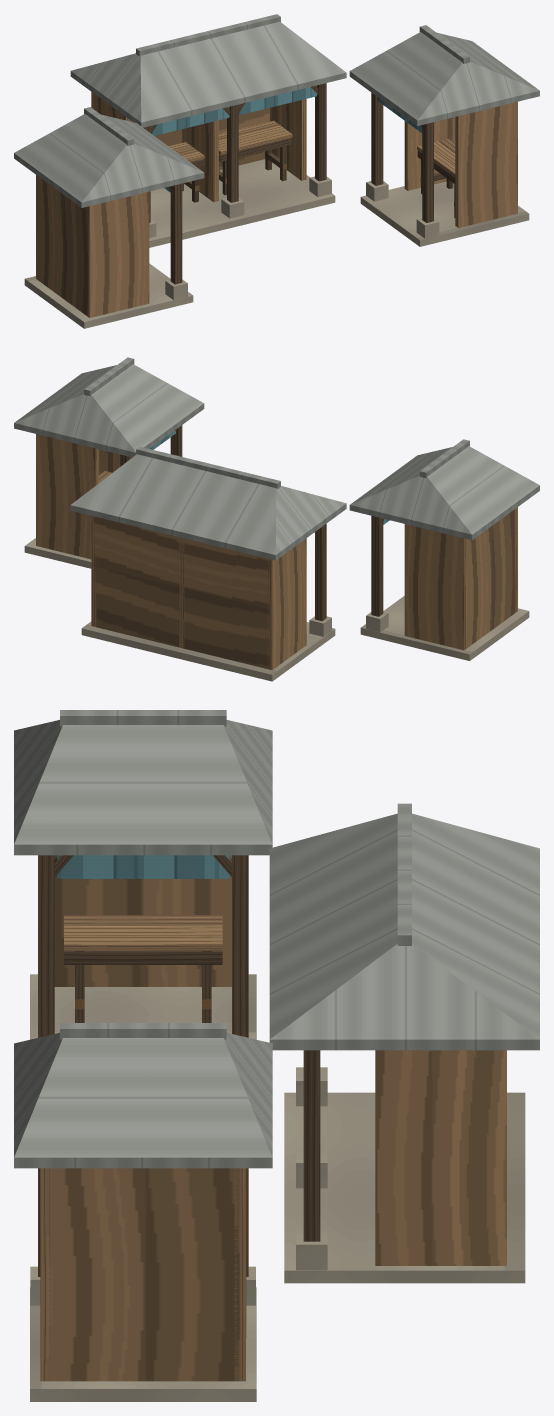
3 views of the same model, one above another, from view 1: azimuth 30°, elevation 25°; view 2: azimuth 150°, elevation 25°; view 3: azimuth 270°, elevation 25° (orthographic). The views are drawn at different scales.
Parts seen in each view (by area): view 1: alofi; view 2: alofi; view 3: alofi.
Boxes of the visible parts, bbox=[...] form: alofi: bbox=[14, 14, 539, 328]; alofi: bbox=[14, 357, 539, 681]; alofi: bbox=[14, 710, 539, 1401].
Size of the model in its own units: 7.05 by 2.5 by 3.67.
Materials: 1 (1 with a texture image).
